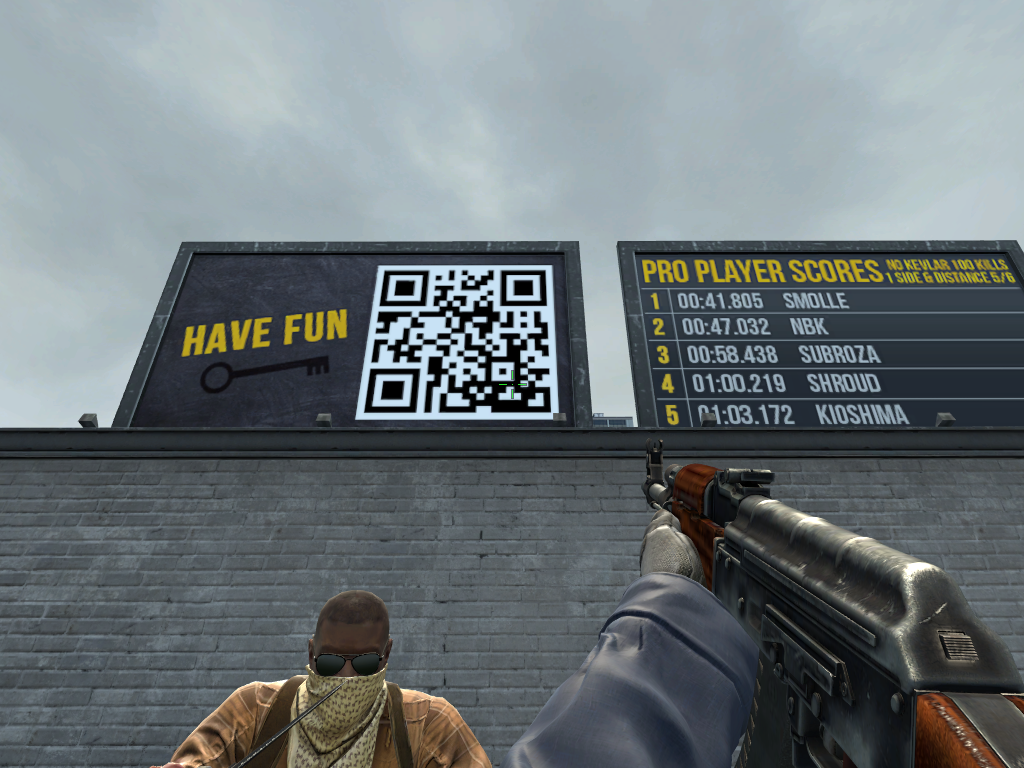tr head: (312, 594, 387, 722)
